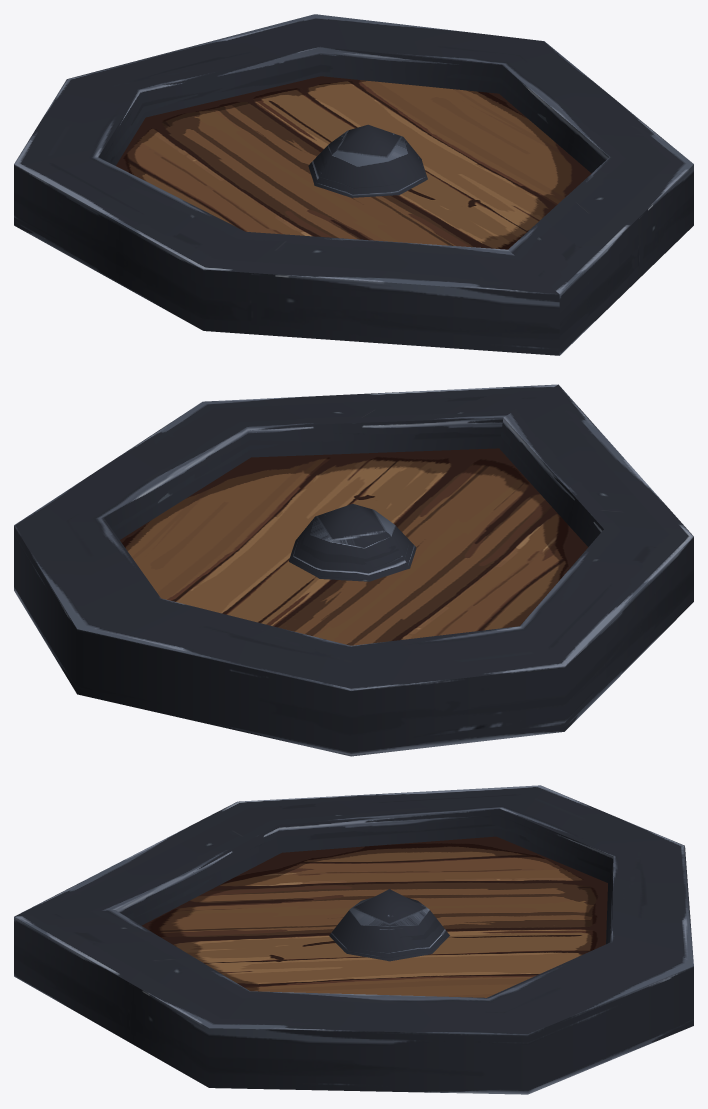
The model's file is SM_PROP_weapon_shield_dungeon_02.fbx.
3 views of the same model, one above another, from view 1: azimuth 30°, elevation 25°; view 2: azimuth 150°, elevation 25°; view 3: azimuth 270°, elevation 25° (orthographic). The views are drawn at different scales.
Visible parts, largest first — view 1: SM_PROP_weapon_shield_dungeon_02; view 2: SM_PROP_weapon_shield_dungeon_02; view 3: SM_PROP_weapon_shield_dungeon_02.
Part boxes in pixels (bbox=[...]): SM_PROP_weapon_shield_dungeon_02: bbox=[14, 14, 693, 355]; SM_PROP_weapon_shield_dungeon_02: bbox=[14, 384, 693, 756]; SM_PROP_weapon_shield_dungeon_02: bbox=[14, 785, 693, 1094].
Size of the model in its own units: 57.54 by 10.24 by 66.28.
